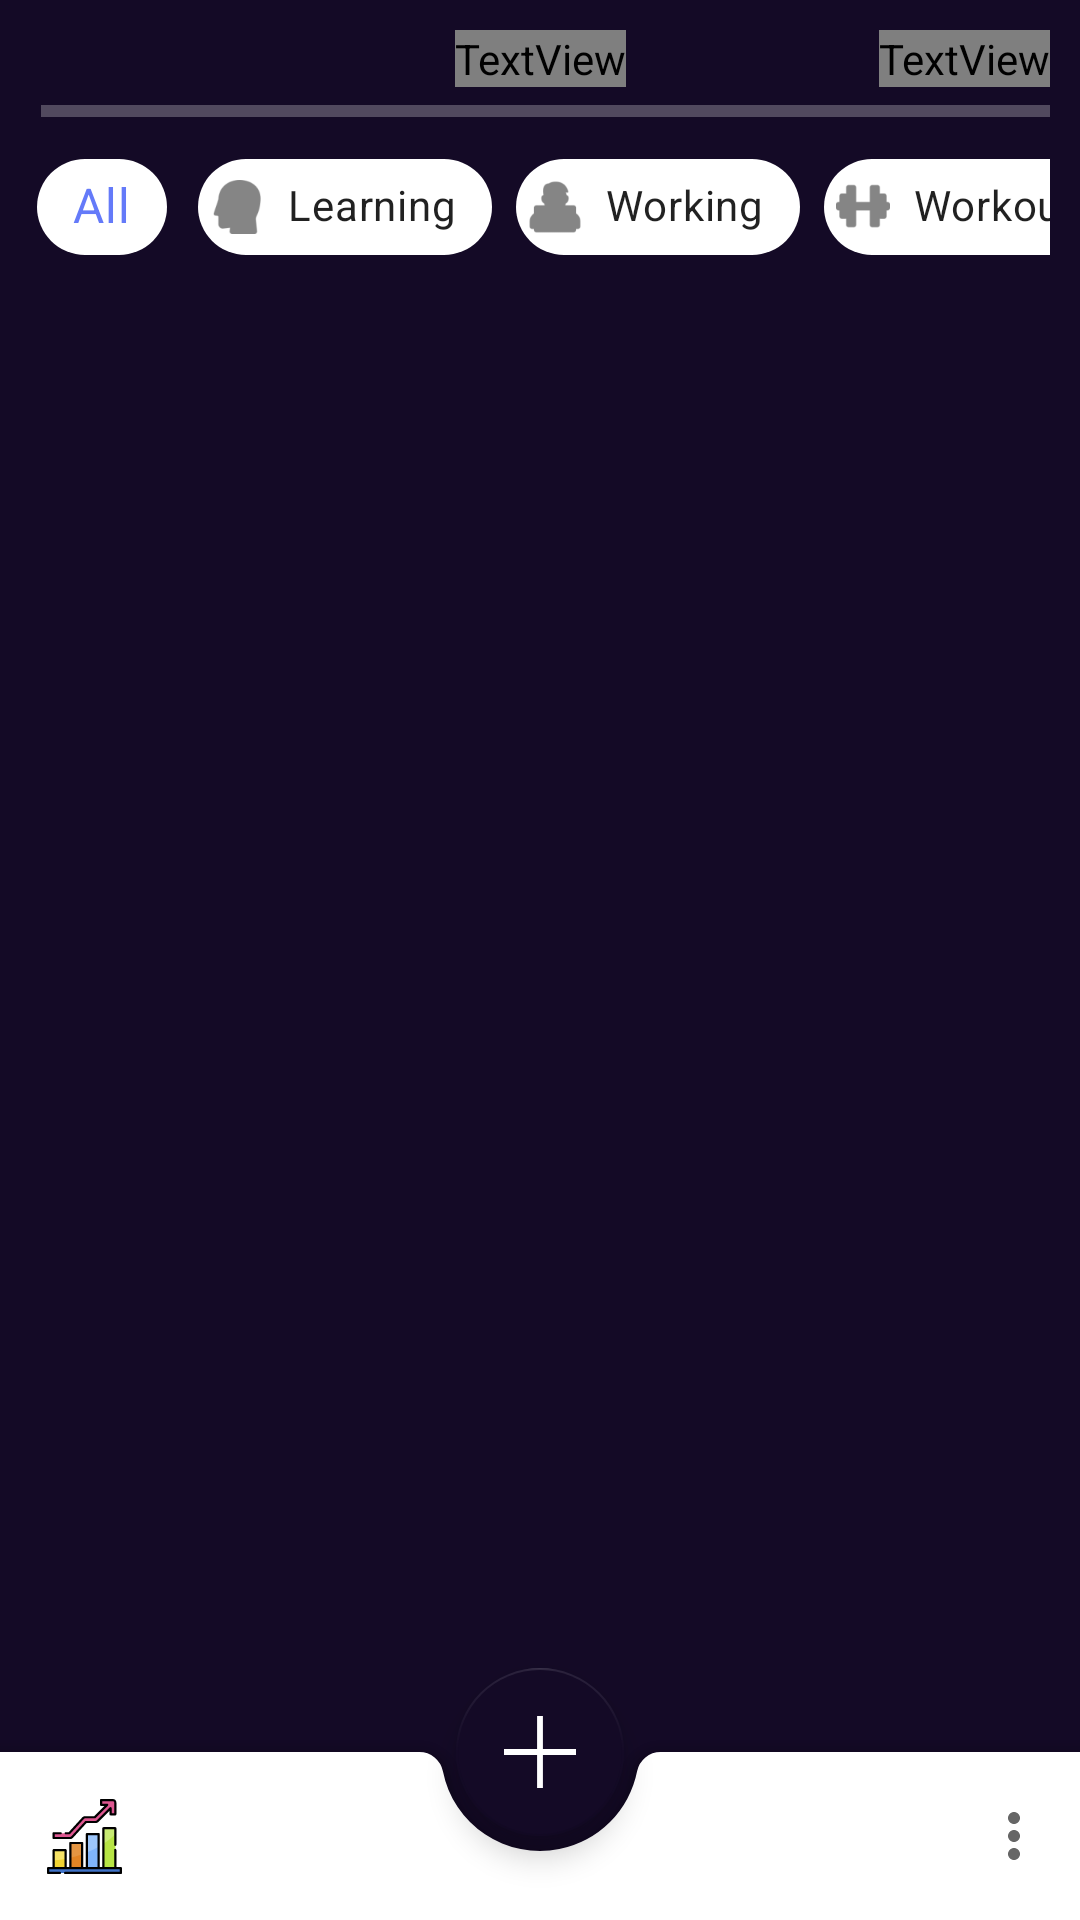

Screen size 1080x1920. Icon name, then its center in pixels as point (x, y):
add: point (540, 1728)
